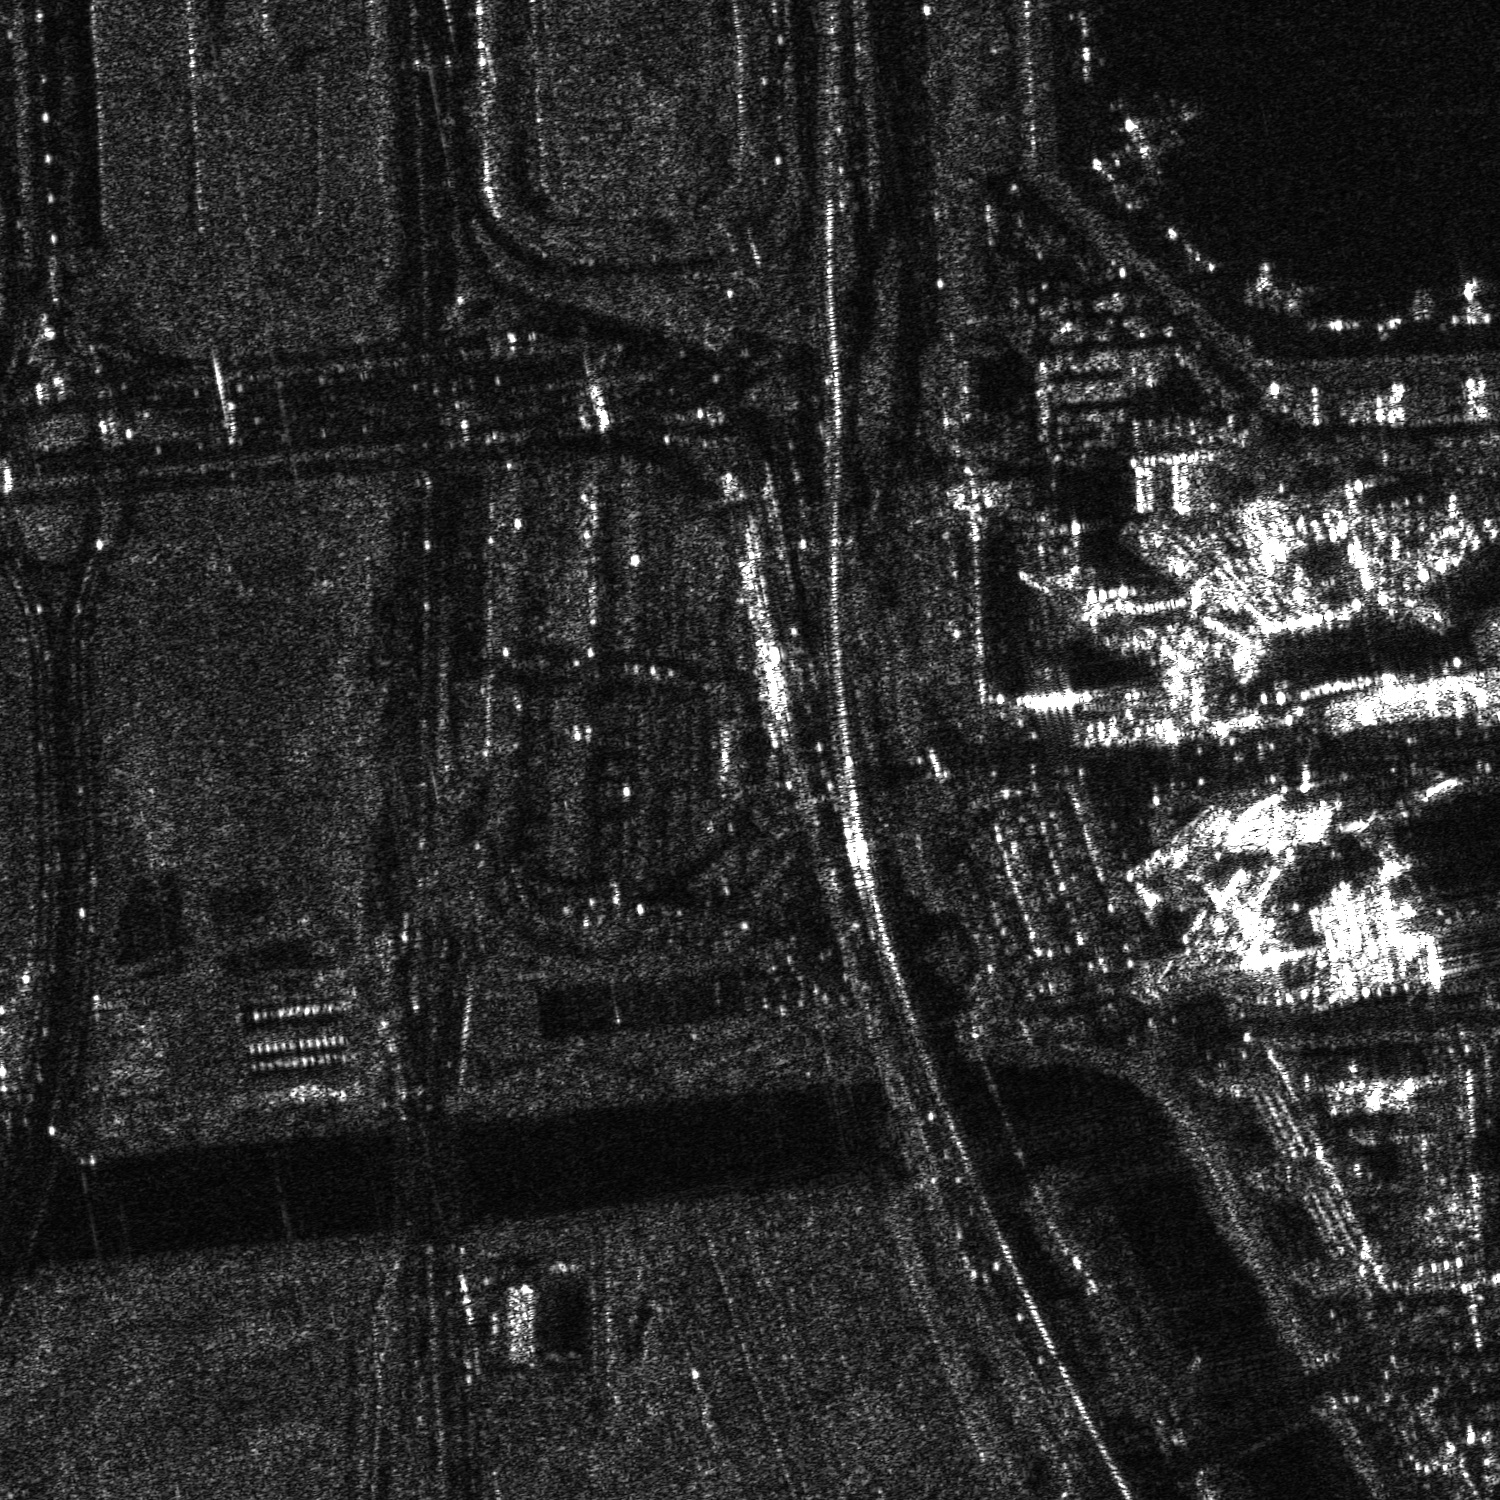A220: (1102, 89, 1205, 180)
